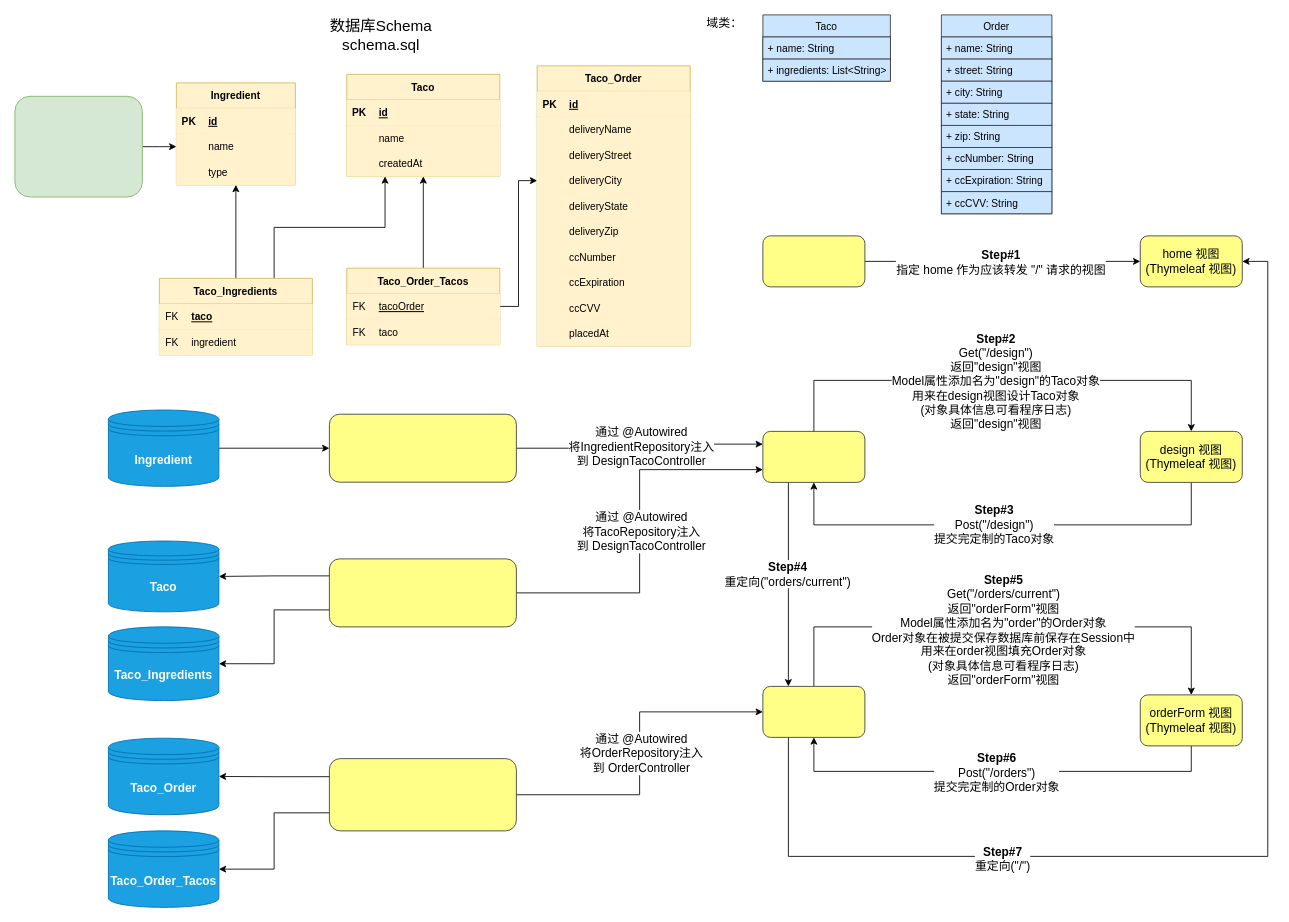
This 1289x922 diagram has some shape labels left out. The centre of each missing label's shape, as x and y in pixels:
"data.sql 预加载一些已有的Ingredient数据到数据库 提供现有的原料让顾客设计自己的taco" goes at point 78,146.
"DesignTaco 控制器" goes at point 813,456.
"Order 控制器" goes at point 813,711.
"Spring Data JPA IngredientRepository接口 / 扩展 CrudRepository 接口" goes at point 422,447.
"Spring Data JPA OrderRepository接口 / 扩展 CrudRepository 接口" goes at point 422,794.
"Spring Data JPA TacoRepository接口 / 扩展 CrudRepository 接口" goes at point 422,592.
"WebConfig 视图控制器" goes at point 813,261.
